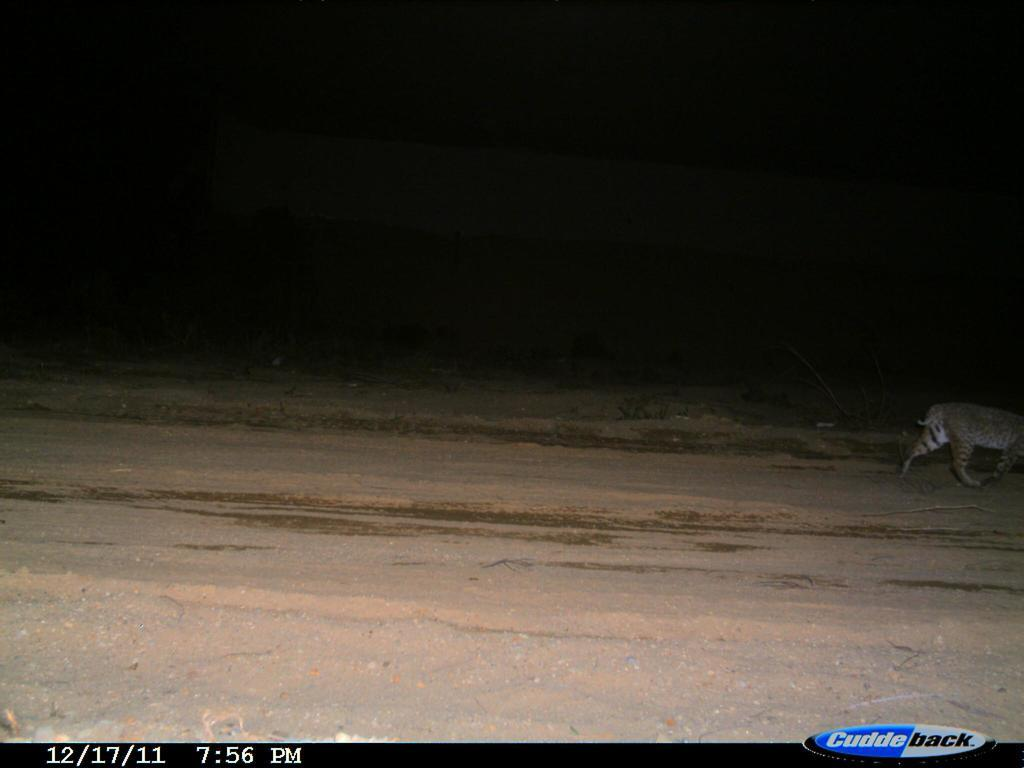bobcat: (894, 395, 1024, 492)
